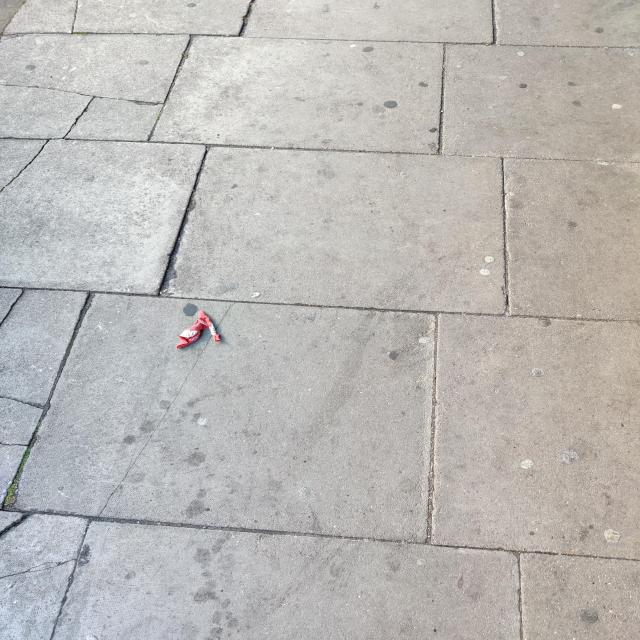litter: (177, 310, 221, 348)
